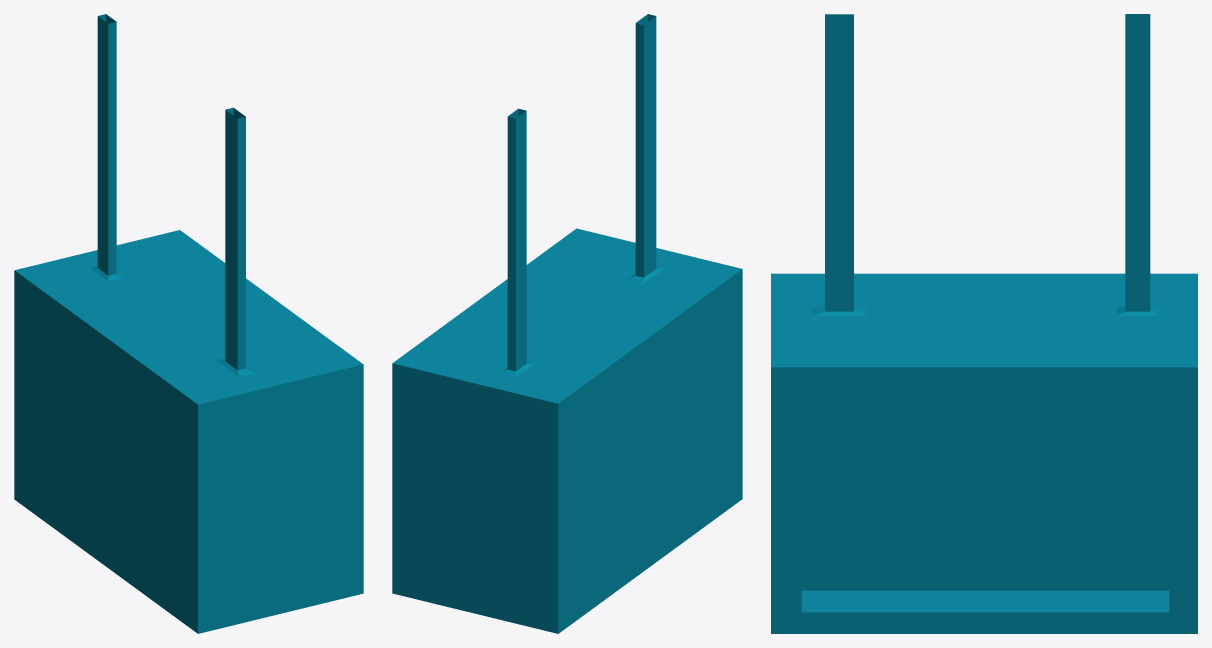
The model's file is senal_01.fbx.
3 views of the same model, side by side, from view 1: azimuth 30°, elevation 25°; view 2: azimuth 150°, elevation 25°; view 3: azimuth 270°, elevation 25° (orthographic). The views are drawn at different scales.
Parts seen in each view (by area): view 1: senal_01; view 2: senal_01; view 3: senal_01.
Part boxes in pixels (x1,y1,x2,y2): senal_01: (14,14,363,633); senal_01: (392,14,742,633); senal_01: (771,14,1197,633).
Bounding box in the file's own units: 0.5201 × 1.45 × 1.
